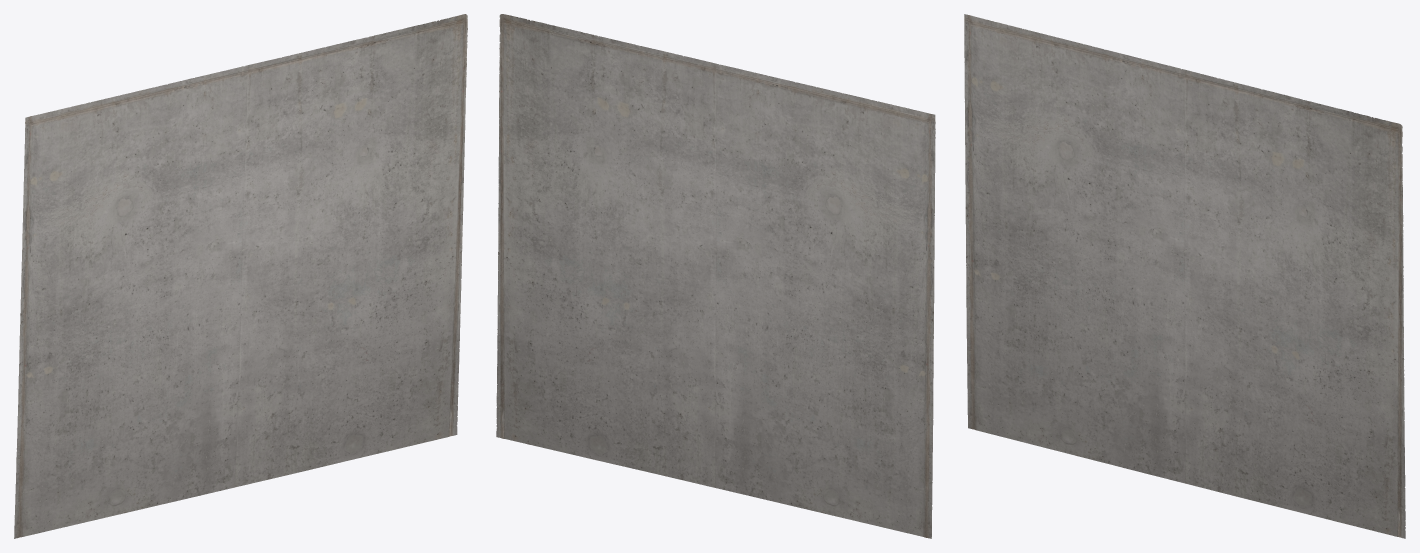
Rendered from pared.glb.
The picture shows the model from 3 angles, left to right: view 1: azimuth 30°, elevation 25°; view 2: azimuth 150°, elevation 25°; view 3: azimuth 330°, elevation 25°; orthographic projection.
Parts seen in each view (by area): view 1: Model; view 2: Model; view 3: Model.
Boxes of the visible parts, x1,y1,x2,y2 form: Model: (14, 14, 467, 538); Model: (496, 14, 935, 538); Model: (964, 14, 1405, 538).
Bounding box in the file's own units: 9 × 8.27 × 0.2771.
Materials: 2 (2 with a texture image).
